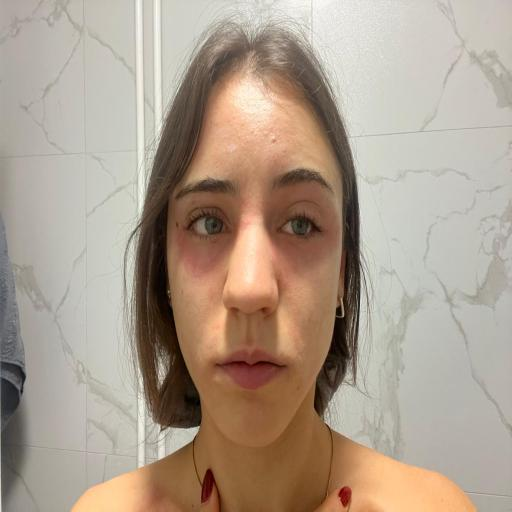masa: (166, 80, 344, 445)
